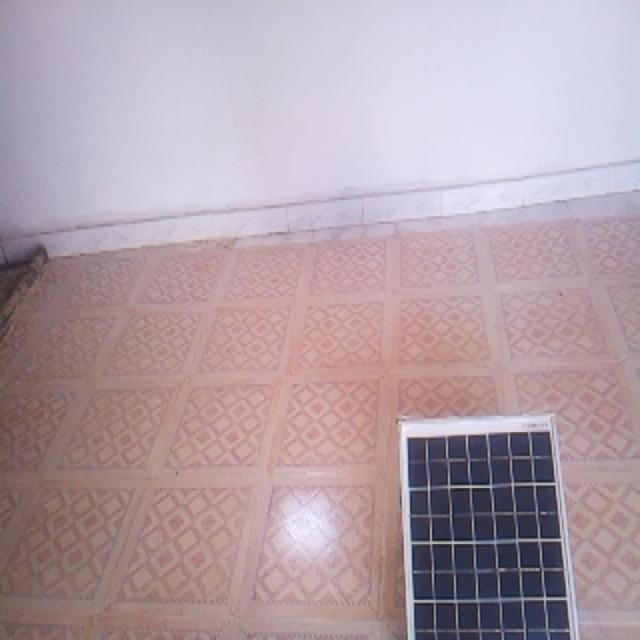Normal Solar Panel: (400, 415, 581, 640)
